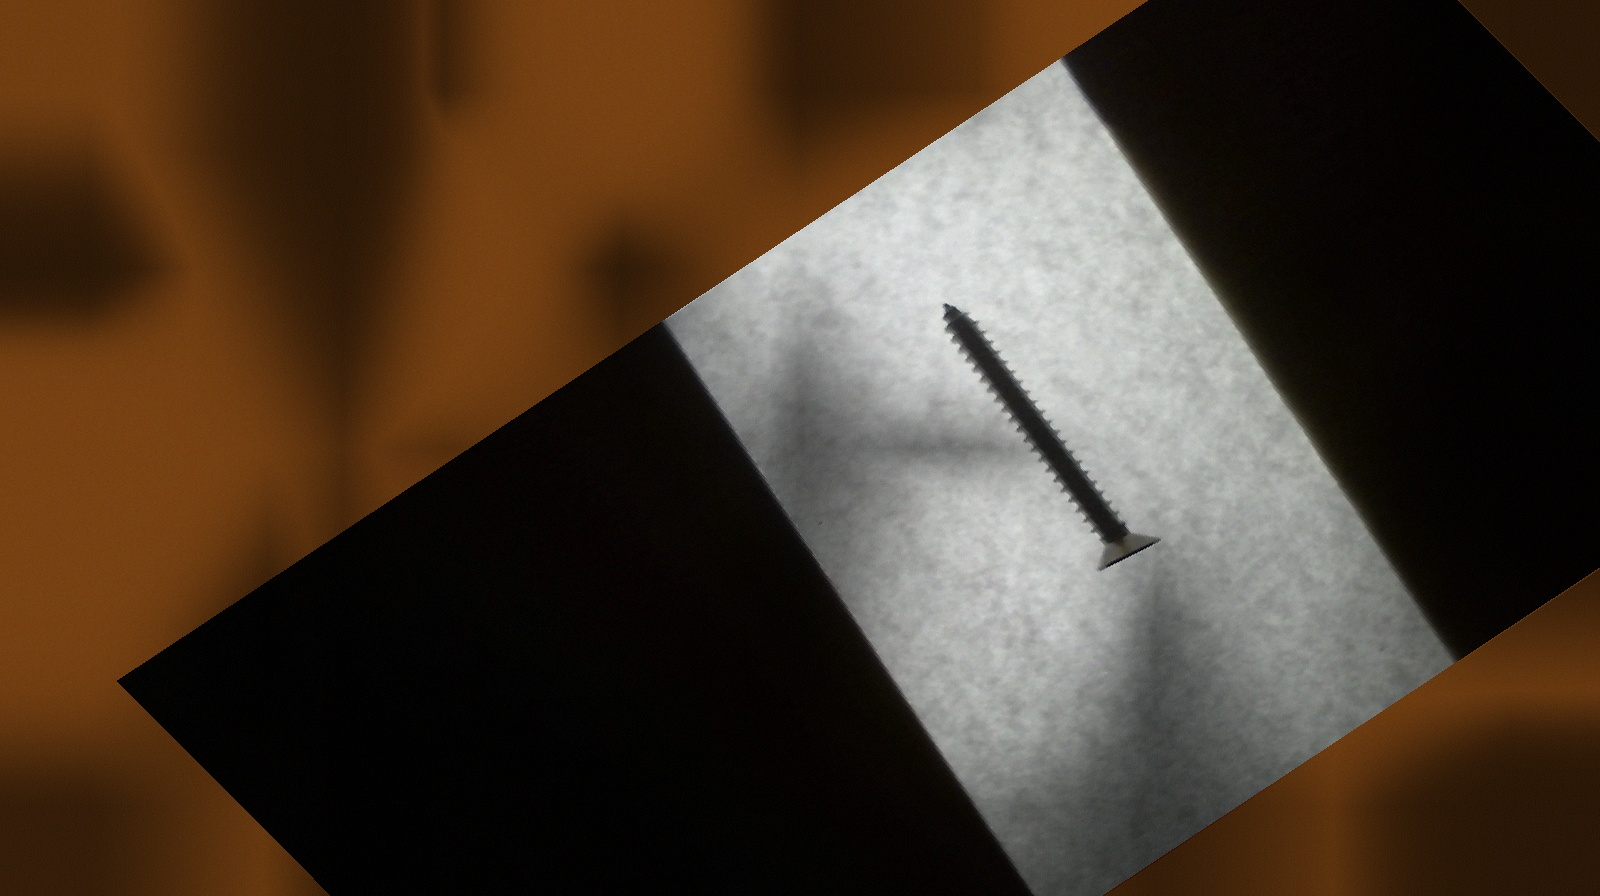S002: (865, 281, 1205, 587)
